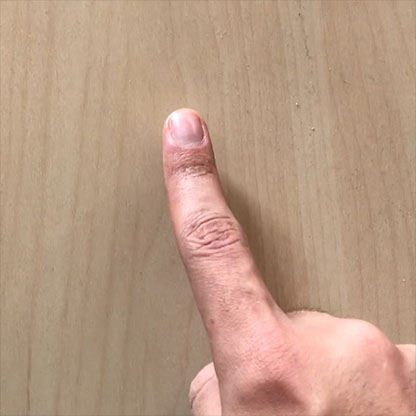fingertip: (154, 98, 214, 168)
